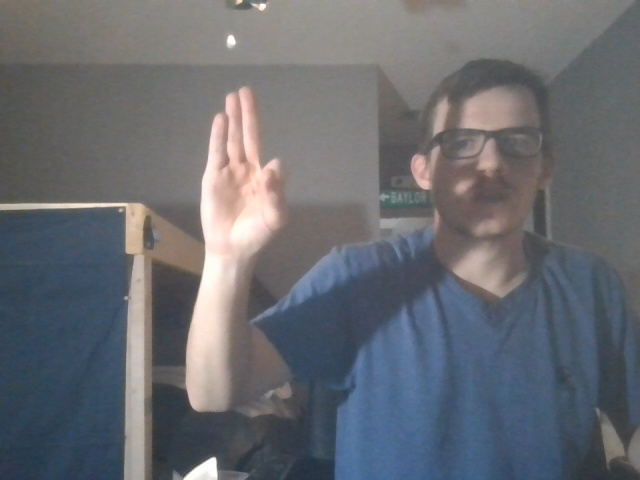F: (194, 84, 300, 257)
